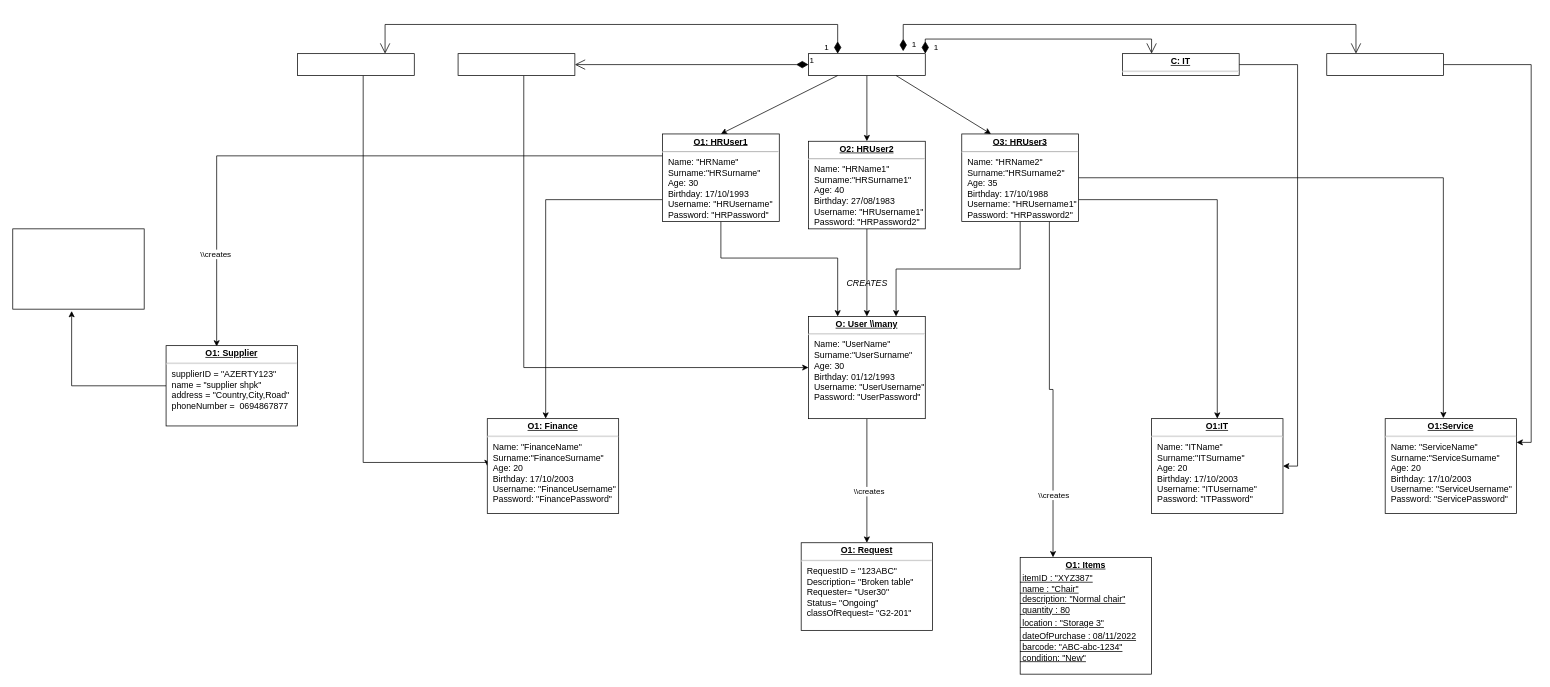
Image size: 1550x687. Some labels were removed from this diagram. Here are the shapes that lost their labels. From the top down, the centre of each, then its label:
At point 355,64: "C: Finance".
At point 516,64: "C: User".
At point 866,64: "C: HR".
At point 1385,64: "C: Service".
At point 78,268: "O1: Stock items(list) = {RAM, Monitors, ... CPU...}".
